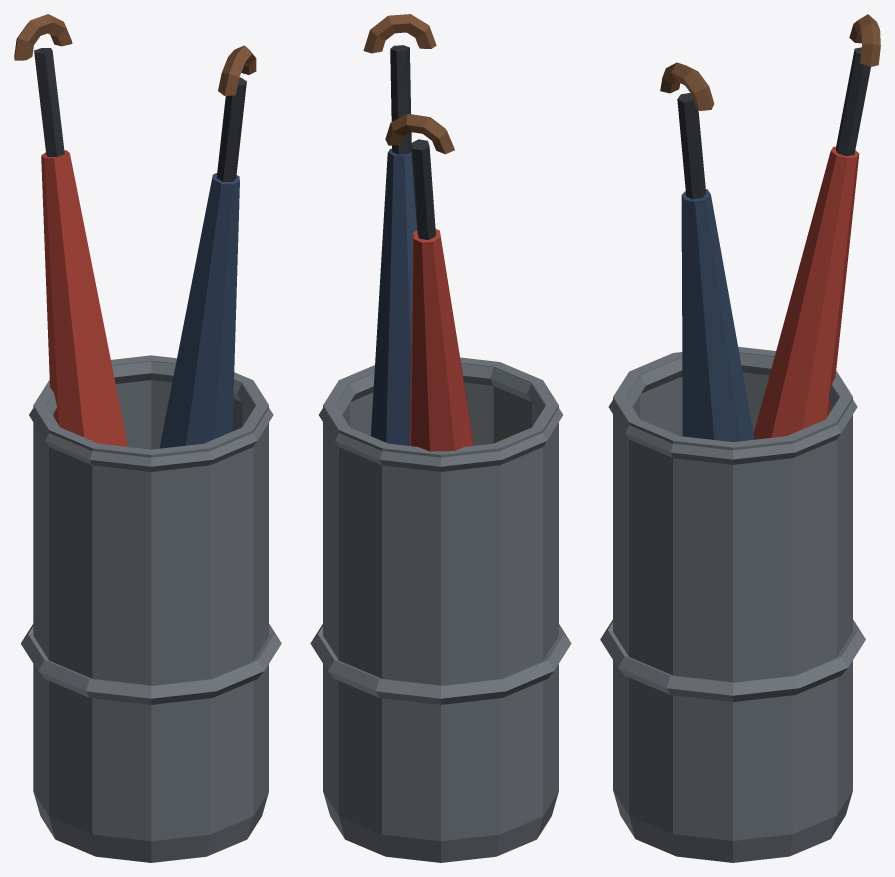
File: SM_LPI_Decor_UmbrellaStand_01.fbx
3 renders of one model, left to right at view 1: azimuth 30°, elevation 25°; view 2: azimuth 150°, elevation 25°; view 3: azimuth 270°, elevation 25°, orthographic.
Visible parts, largest first — view 1: SM_LPI_Decor_UmbrellaStand_01; view 2: SM_LPI_Decor_UmbrellaStand_01; view 3: SM_LPI_Decor_UmbrellaStand_01.
Boxes of the visible parts, x1,y1,x2,y2 form: SM_LPI_Decor_UmbrellaStand_01: [14, 14, 281, 862]; SM_LPI_Decor_UmbrellaStand_01: [310, 14, 571, 862]; SM_LPI_Decor_UmbrellaStand_01: [600, 14, 880, 862].
Size of the model in its own units: 0.288 by 0.9341 by 0.3041.
